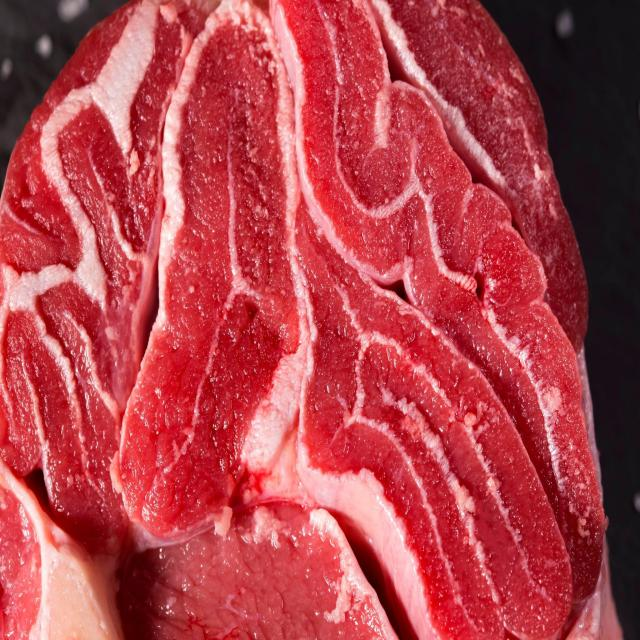beef: (9, 0, 629, 640)
